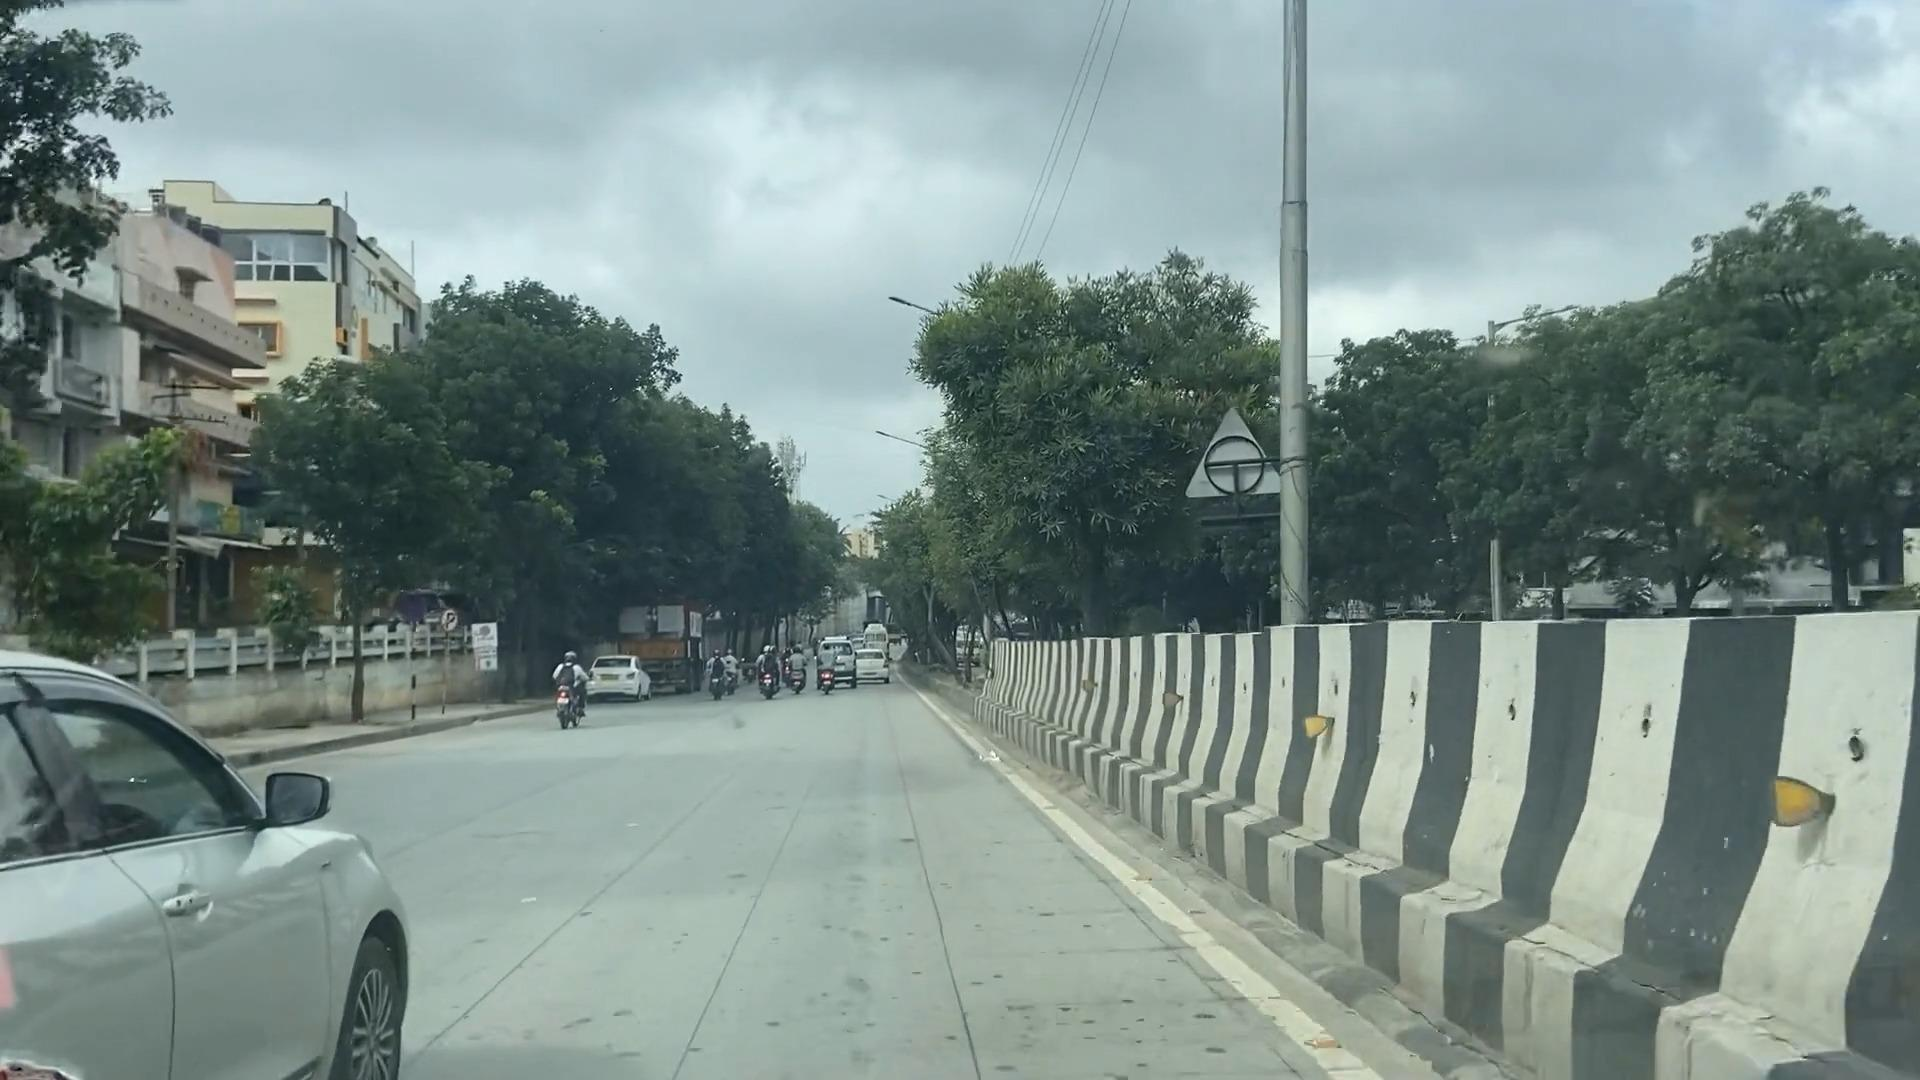LMV: (0, 628, 415, 1080)
